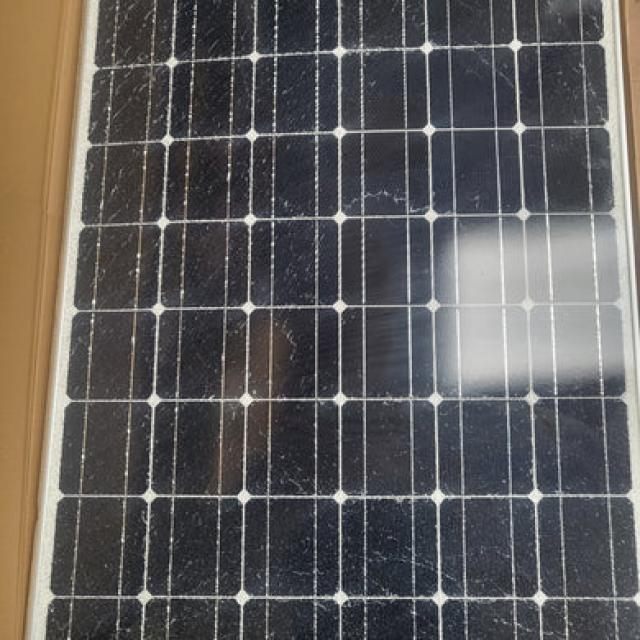faulty: (89, 0, 635, 640)
